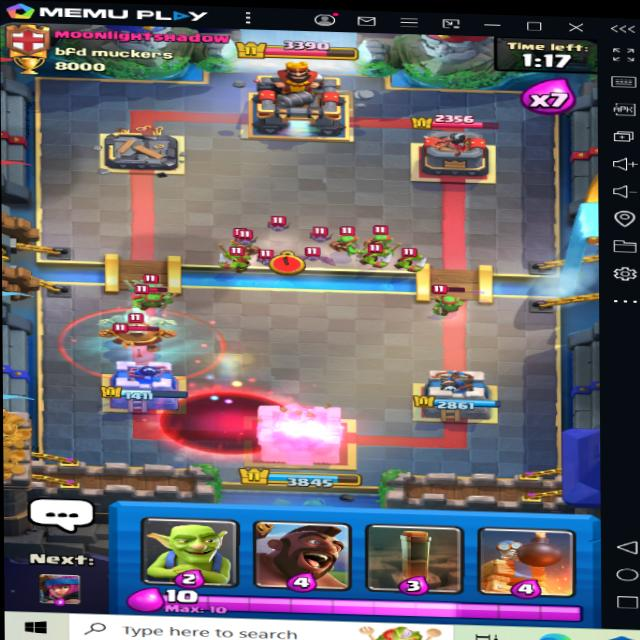bats: (254, 208, 294, 236), (293, 243, 337, 267), (309, 225, 333, 247), (255, 251, 280, 270)
clone: (65, 299, 225, 381)
goblin: (392, 245, 428, 276), (212, 246, 249, 273)
monk: (99, 316, 165, 356)
spear-goblin: (131, 283, 173, 314), (365, 220, 402, 255), (329, 224, 365, 258), (438, 291, 466, 316)
void: (141, 381, 319, 464)
